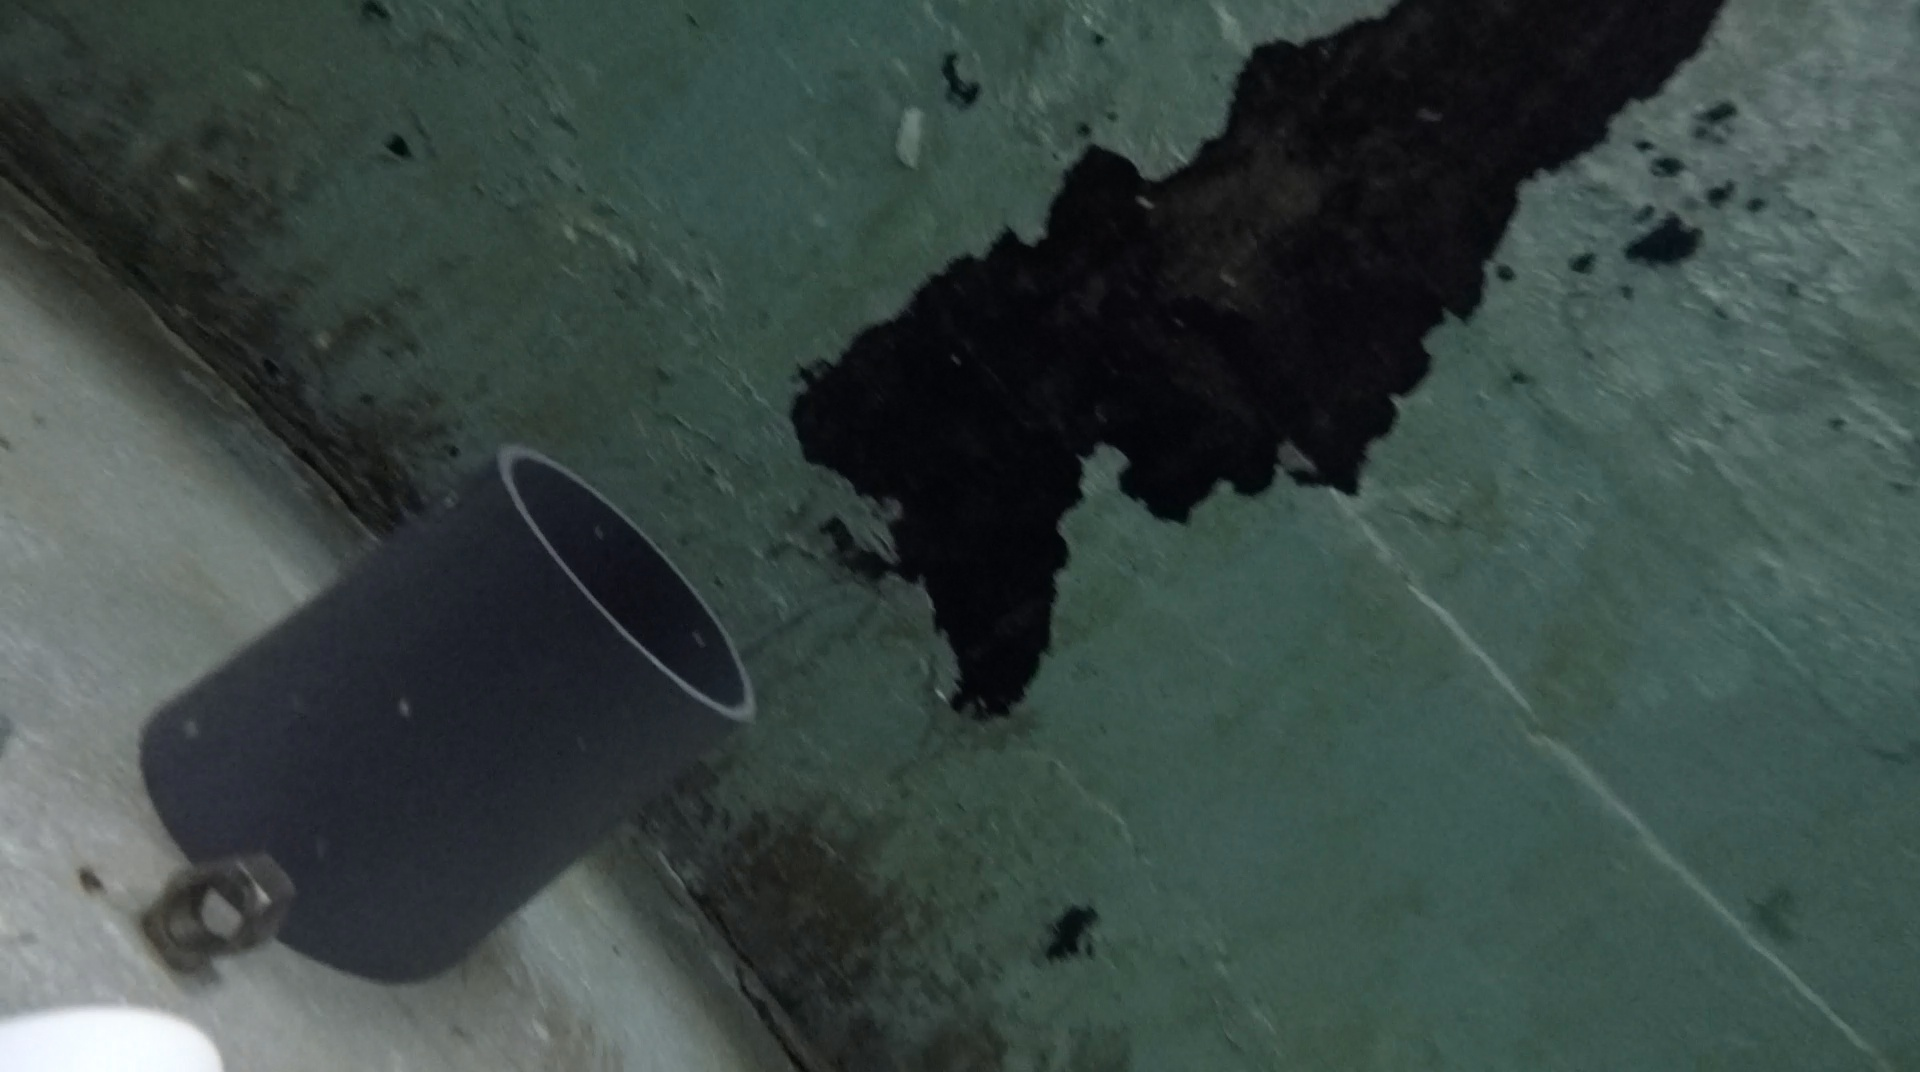nut: (142, 850, 301, 974)
pipe: (138, 444, 756, 984), (1, 1005, 225, 1068)
